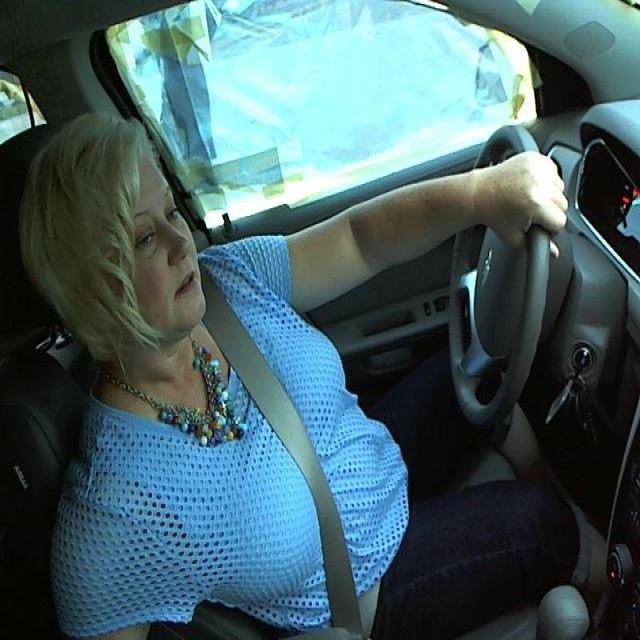seatbelt: (198, 327, 382, 632)
